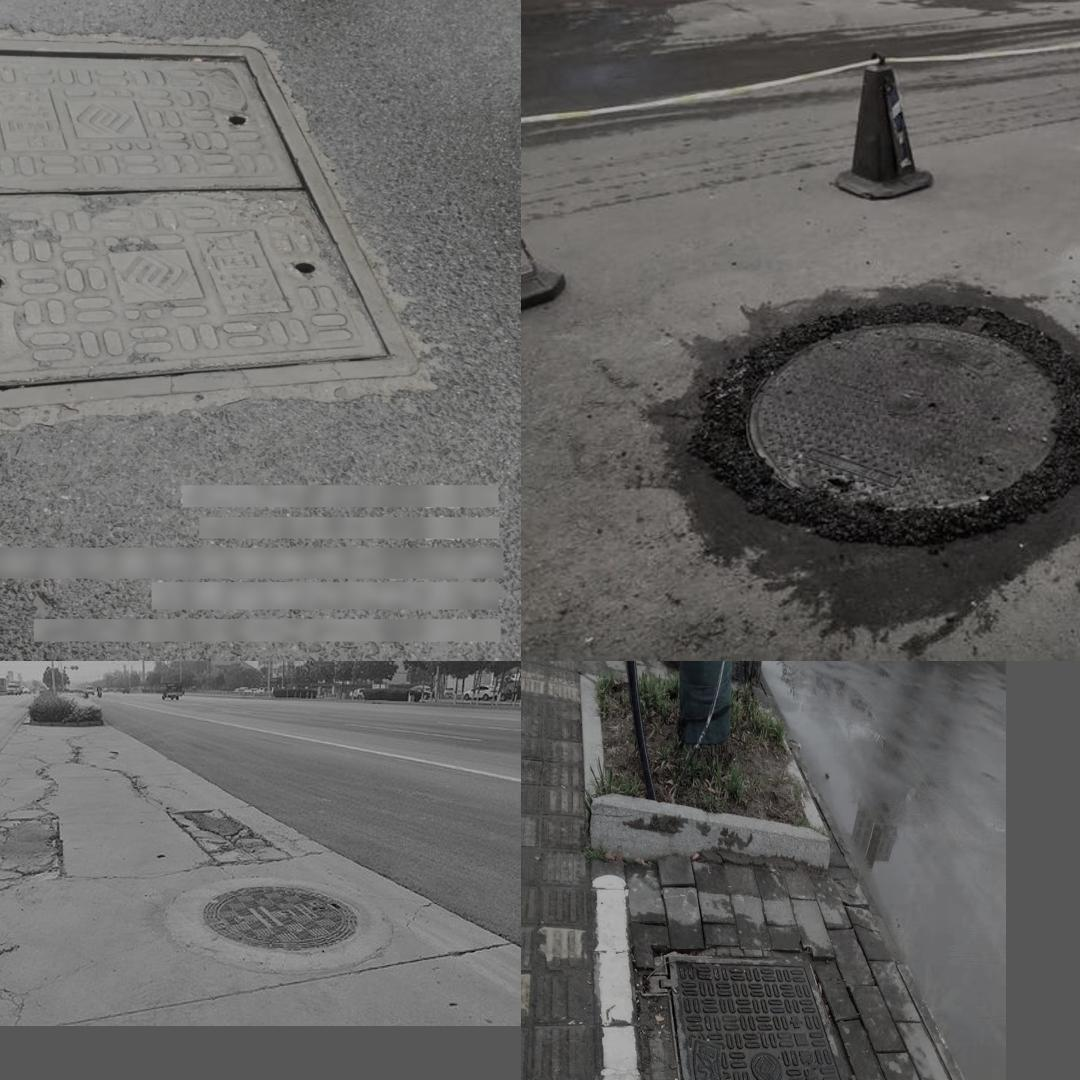good: (0, 38, 417, 417), (655, 270, 1080, 612), (642, 951, 899, 1080), (166, 874, 400, 974)
